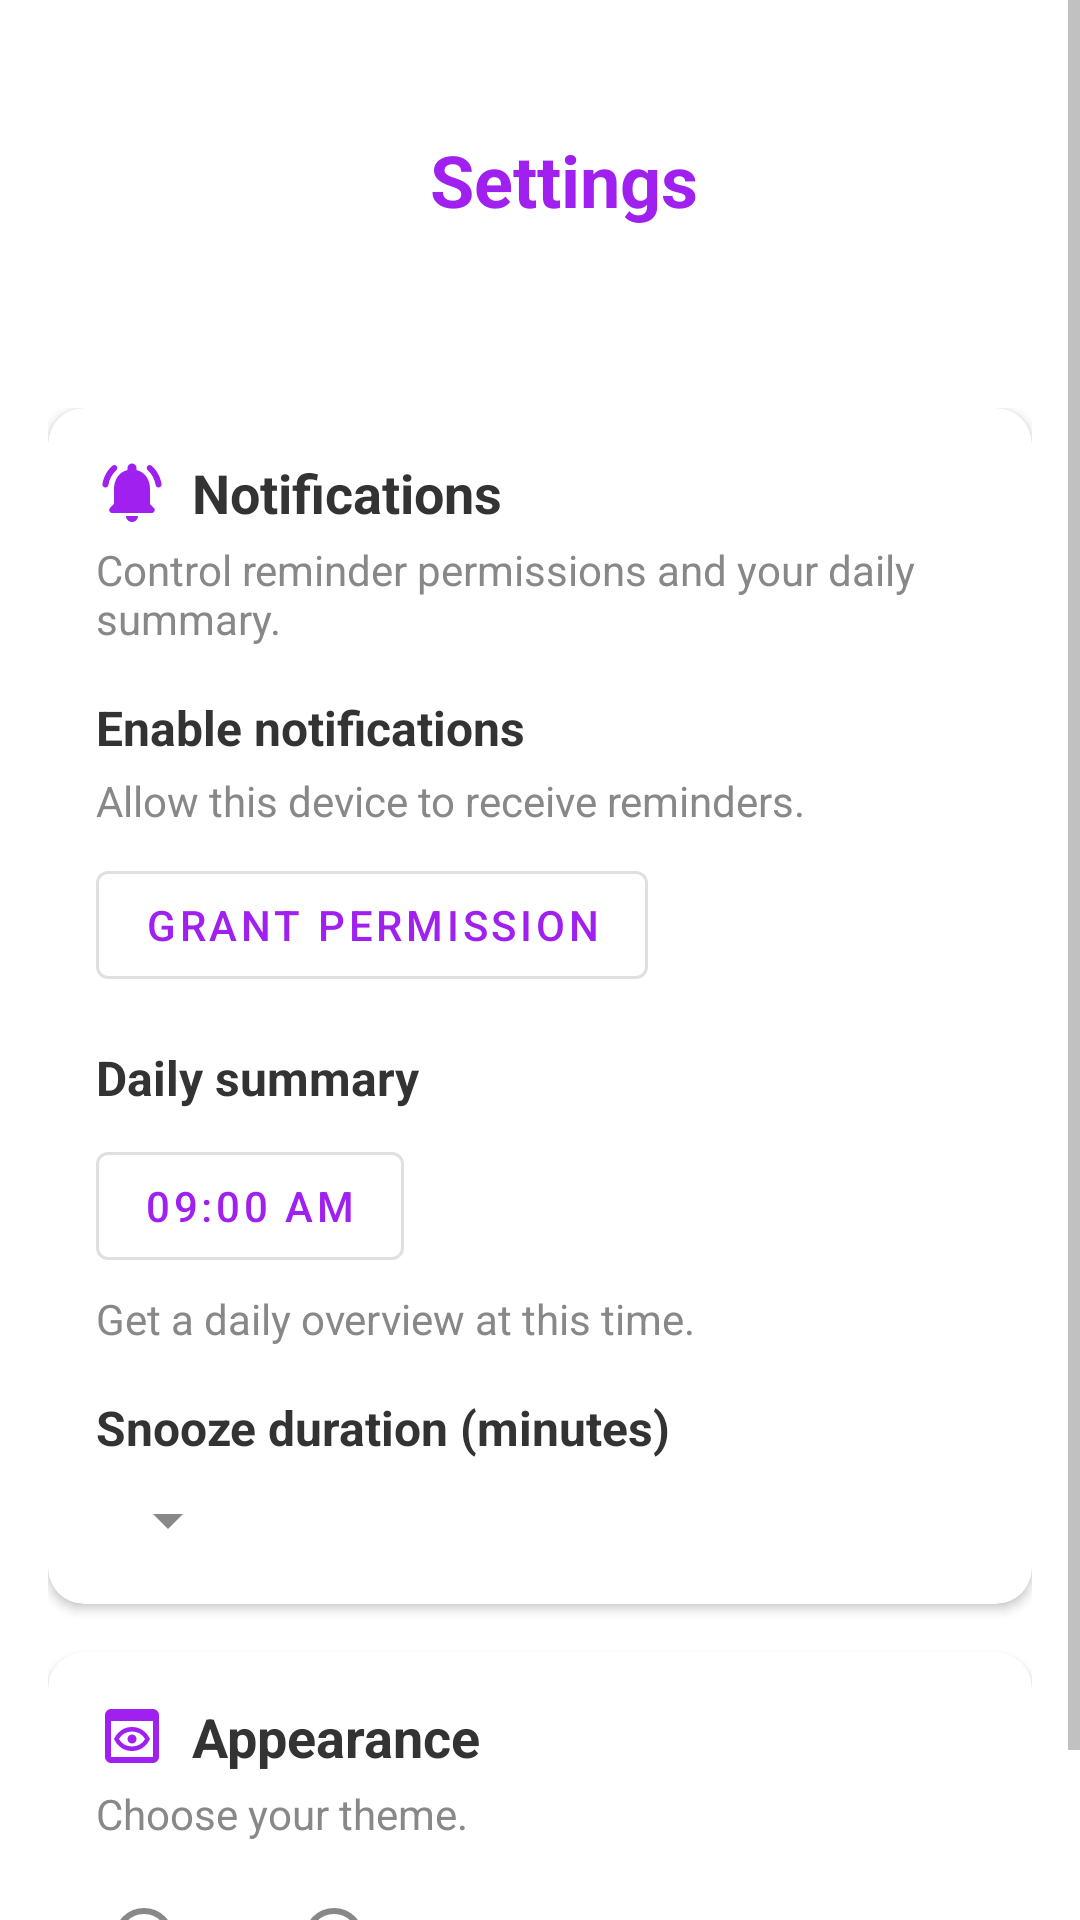

Where icons sit on this 1080 × 1920 app screen, as (x1, y1, x2, y2):
apperance: (105, 1709, 159, 1763)
